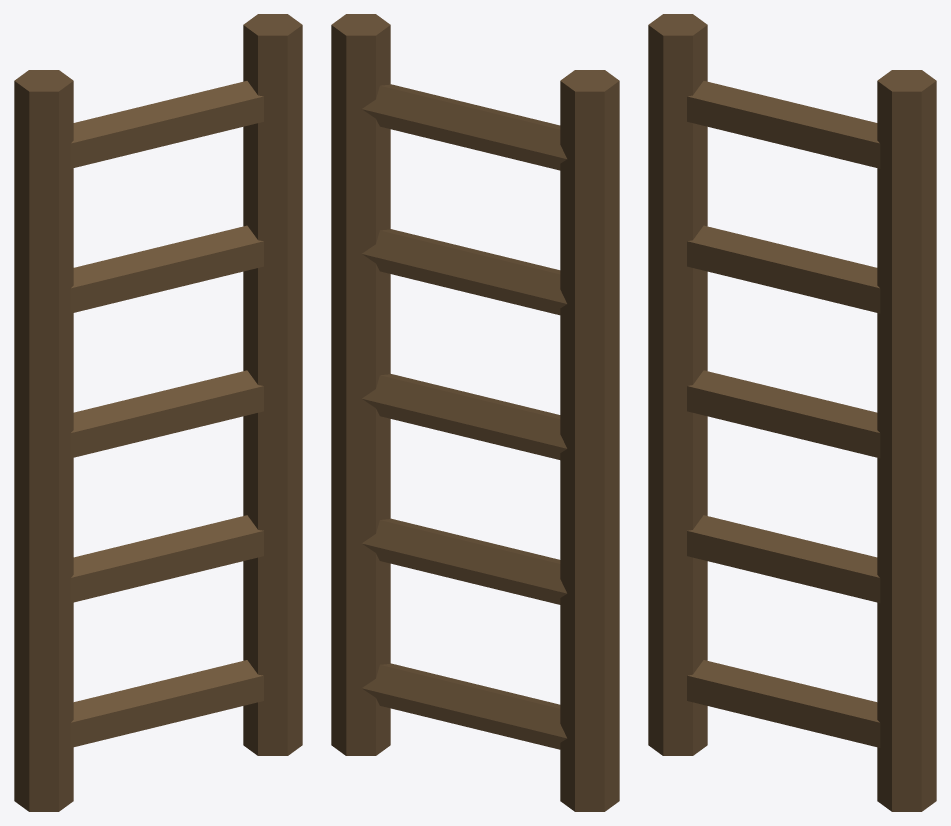
File: Ladder.fbx
The picture shows the model from 3 angles, left to right: view 1: azimuth 30°, elevation 25°; view 2: azimuth 150°, elevation 25°; view 3: azimuth 330°, elevation 25°; orthographic projection.
Visible parts, largest first — view 1: Ladder; view 2: Ladder; view 3: Ladder.
Boxes of the visible parts, x1,y1,x2,y2 form: Ladder: (14,14,302,811); Ladder: (331,14,619,811); Ladder: (648,14,936,811).
Size of the model in its own units: 119 by 300 by 22.41.
